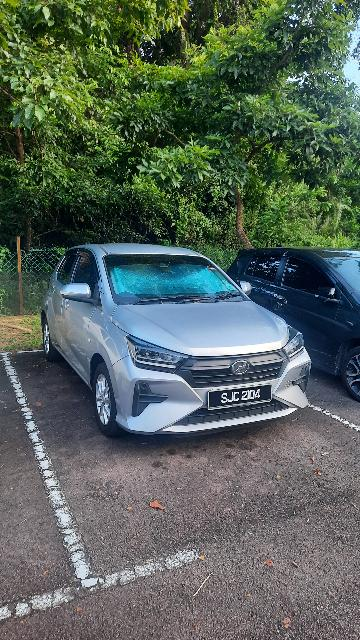License_Plate: (207, 383, 280, 411)
car: (40, 238, 321, 444)
